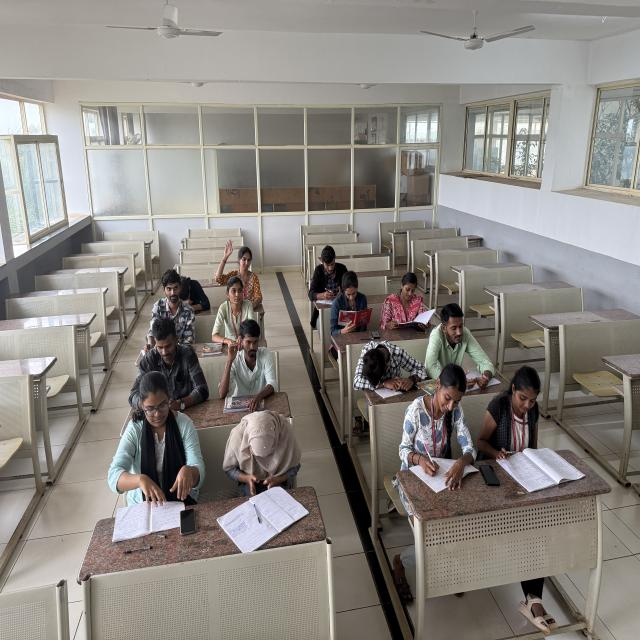Hand Rising: (212, 238, 267, 296)
Reading: (488, 371, 577, 473), (380, 273, 438, 325), (331, 276, 373, 329)
Sleeping: (356, 343, 419, 389), (166, 268, 213, 313)
Using Phone: (214, 412, 317, 491)
Writing: (408, 370, 475, 488)
